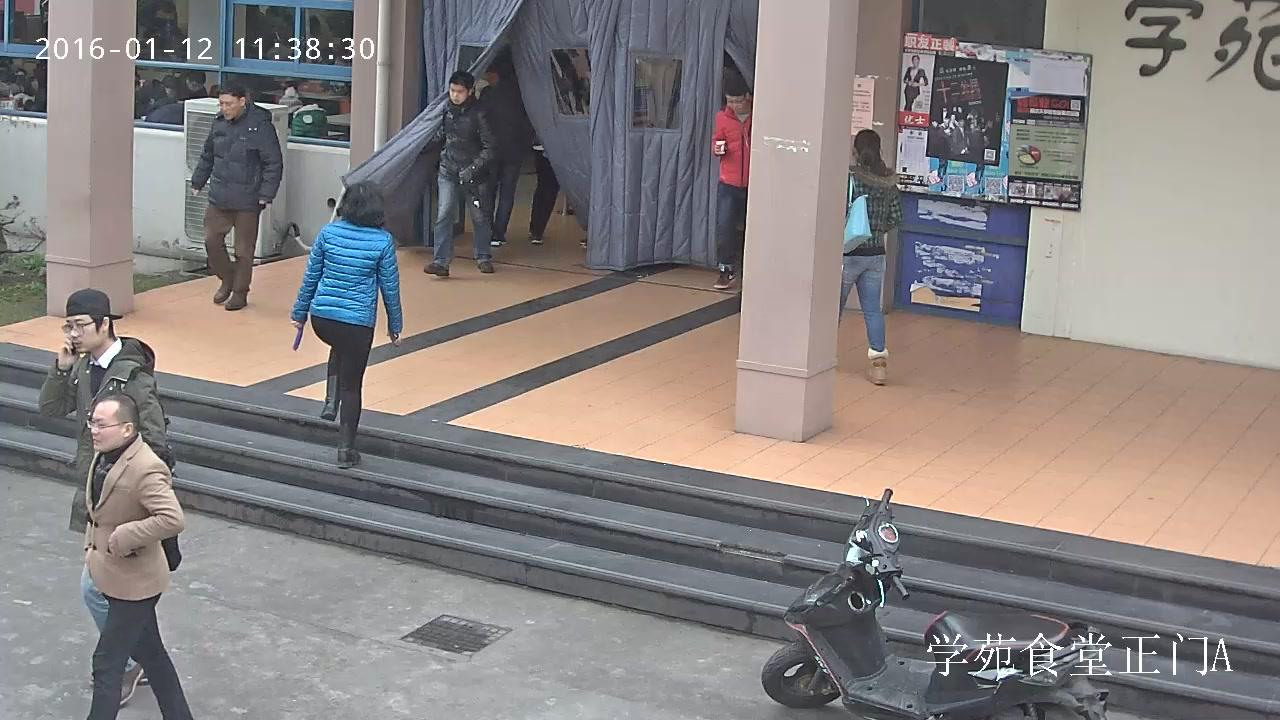person: (37, 287, 173, 705), (81, 390, 197, 720), (291, 178, 403, 468), (188, 81, 285, 311), (838, 129, 902, 384), (422, 71, 500, 277), (525, 50, 584, 247), (480, 60, 531, 247), (711, 75, 754, 290), (279, 84, 328, 140), (140, 84, 182, 123), (902, 53, 928, 112)
